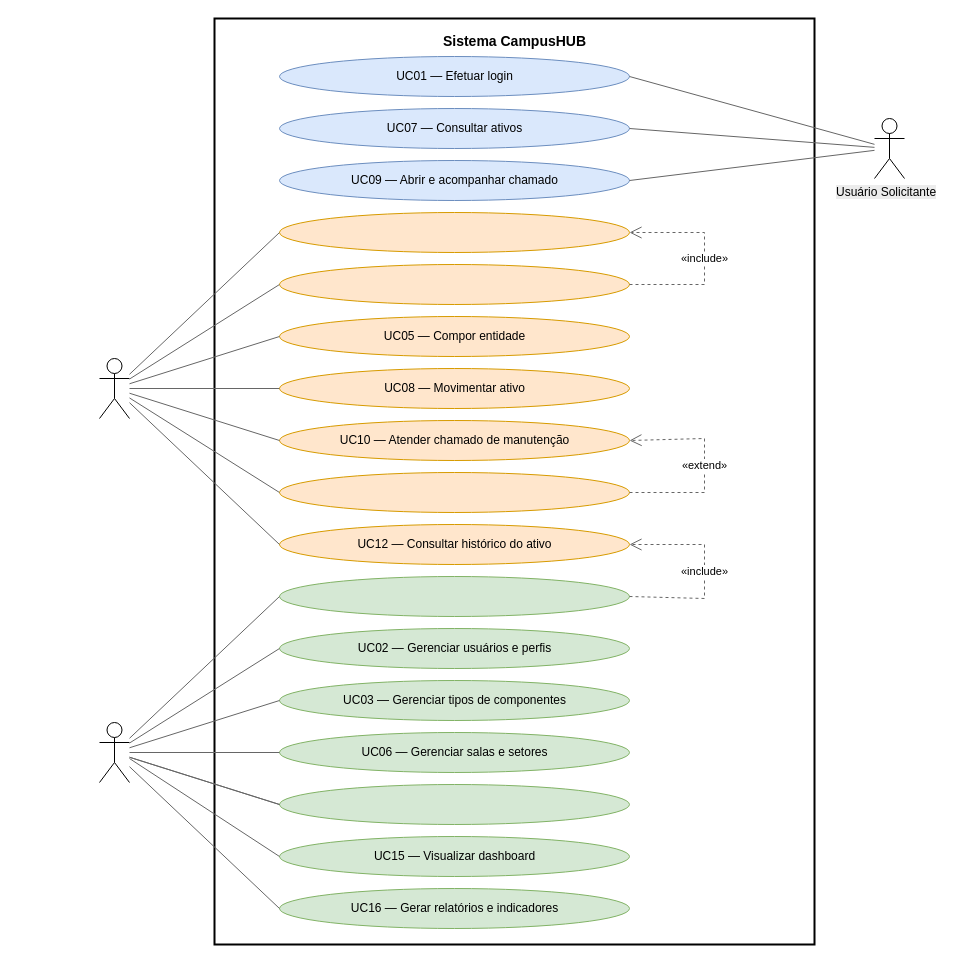
This 972x962 diagram has some shape labels left out. The shapes that lost their labels are listed below. From the top down, each one's box as (x1, y1, x2, y2) in pixels, then its label:
(278, 212, 630, 252): UC04 — Cadastrar componente
(278, 264, 630, 304): UC14 — Receber e etiquetar ativos
(98, 358, 130, 418): Técnico de TI
(278, 472, 630, 512): UC11 — Registrar substituição de peça
(278, 576, 630, 616): UC17 — Dar baixa em ativo
(98, 722, 130, 782): Administrador de TI
(278, 784, 630, 824): UC13 — Requisitar compra
